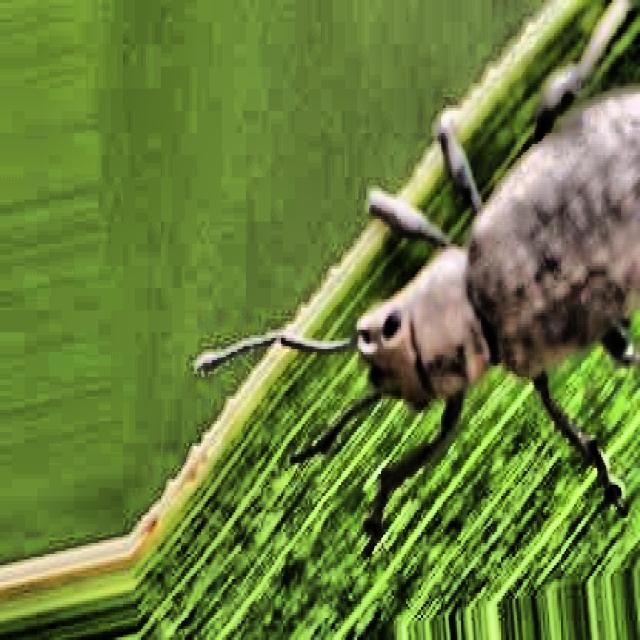Stink bug: (236, 59, 640, 479)
